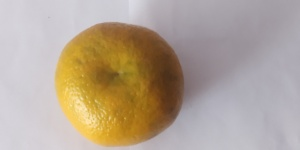BAD: (57, 19, 186, 145)
